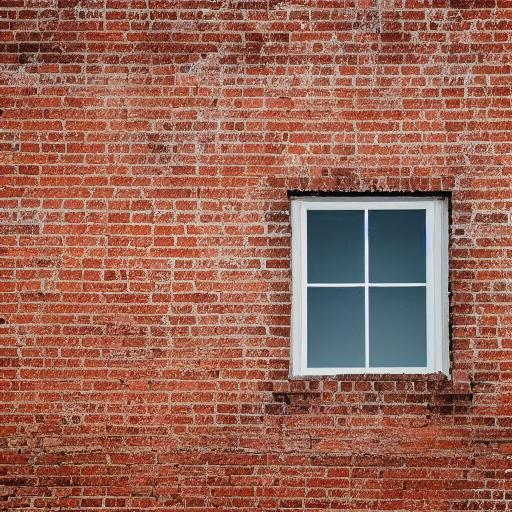Window: (288, 188, 454, 382)
